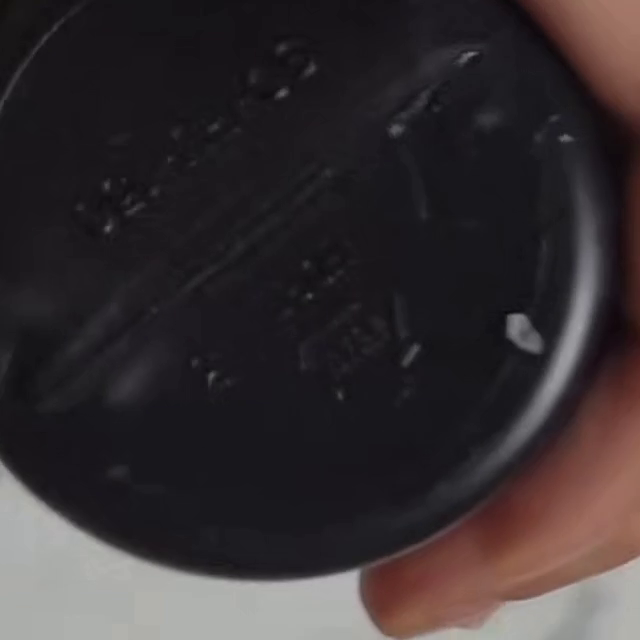Plastic: (287, 283, 423, 412)
